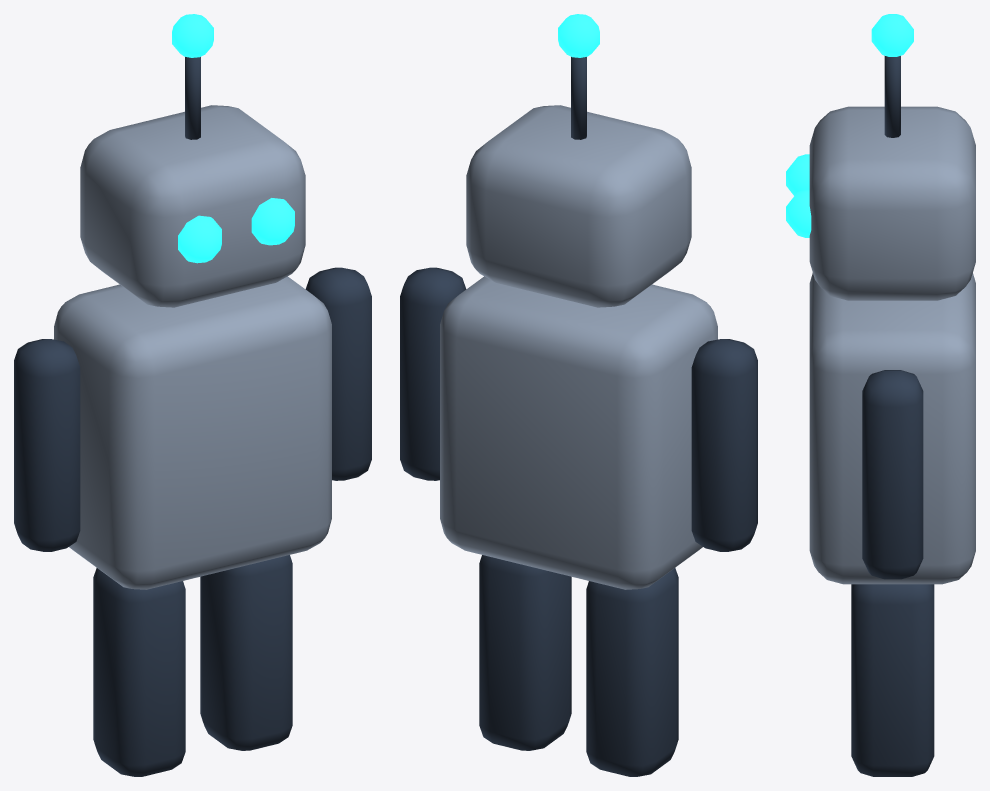
Rendered from robot.glb.
3 renders of one model, left to right at view 1: azimuth 30°, elevation 25°; view 2: azimuth 150°, elevation 25°; view 3: azimuth 270°, elevation 25°, orthographic.
Parts seen in each view (by area): view 1: Body, Head, LegL, LegR, ArmL, ArmR, Eye, Eye.001, Tip, Antenna; view 2: Body, Head, LegL, LegR, ArmL, ArmR, Tip, Antenna; view 3: Body, Head, LegR, ArmR, Tip, Antenna, Eye.001, Eye.
Boxes of the visible parts, x1,y1,x2,y2 form: Body: (54, 276, 331, 589); Head: (80, 105, 305, 307); LegL: (93, 568, 185, 776); LegR: (200, 555, 292, 750); ArmL: (14, 339, 80, 551); ArmR: (305, 267, 371, 480); Eye: (178, 215, 221, 263); Eye.001: (251, 198, 294, 245); Tip: (172, 14, 213, 57); Antenna: (185, 57, 200, 139); Body: (440, 276, 717, 589); Head: (466, 105, 691, 307); LegL: (586, 568, 678, 776); LegR: (479, 555, 571, 750); ArmL: (691, 339, 757, 551); ArmR: (400, 267, 466, 480); Tip: (558, 14, 599, 57); Antenna: (571, 57, 586, 139); Body: (809, 273, 975, 584); Head: (809, 106, 975, 300); LegR: (851, 584, 934, 776); ArmR: (862, 370, 923, 579); Tip: (871, 14, 913, 56); Antenna: (884, 56, 900, 137); Eye.001: (786, 189, 811, 237); Eye: (786, 154, 809, 195).
Bounding box in the file's own units: 1.42 × 2.9 × 0.6856.
